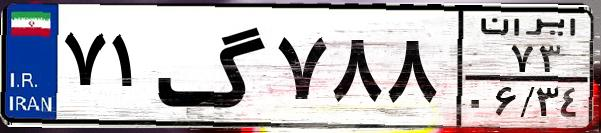0: (470, 70, 495, 125)
1: (110, 28, 156, 98)
3: (537, 27, 568, 80), (535, 70, 560, 125)
4: (560, 70, 590, 125)
6: (495, 70, 520, 125)
7: (270, 28, 330, 110), (57, 26, 110, 100), (508, 27, 537, 80)
8: (385, 28, 445, 110), (330, 28, 385, 110)
گ: (156, 12, 270, 120)
